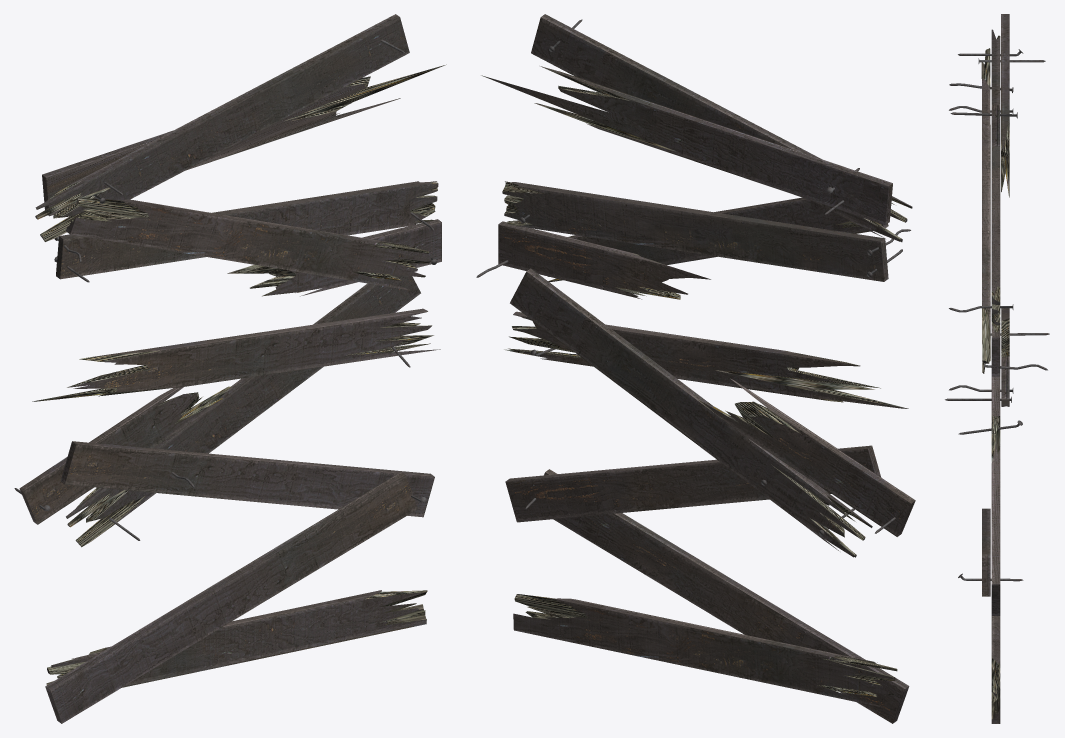
Rendered from SM_BoardsB.FBX.
The picture shows the model from 3 angles, left to right: view 1: azimuth 30°, elevation 25°; view 2: azimuth 150°, elevation 25°; view 3: azimuth 270°, elevation 25°; orthographic projection. The views are drawn at different scales.
Visible parts, largest first — view 1: SM_BoardsB_LOD0; view 2: SM_BoardsB_LOD0; view 3: SM_BoardsB_LOD0.
Part boxes in pixels (x1,y1,x2,y2): SM_BoardsB_LOD0: (14,14,446,723); SM_BoardsB_LOD0: (476,14,915,723); SM_BoardsB_LOD0: (945,14,1049,723).
Size of what is drawn, in the model's own units: 128 by 177 by 27.76.
